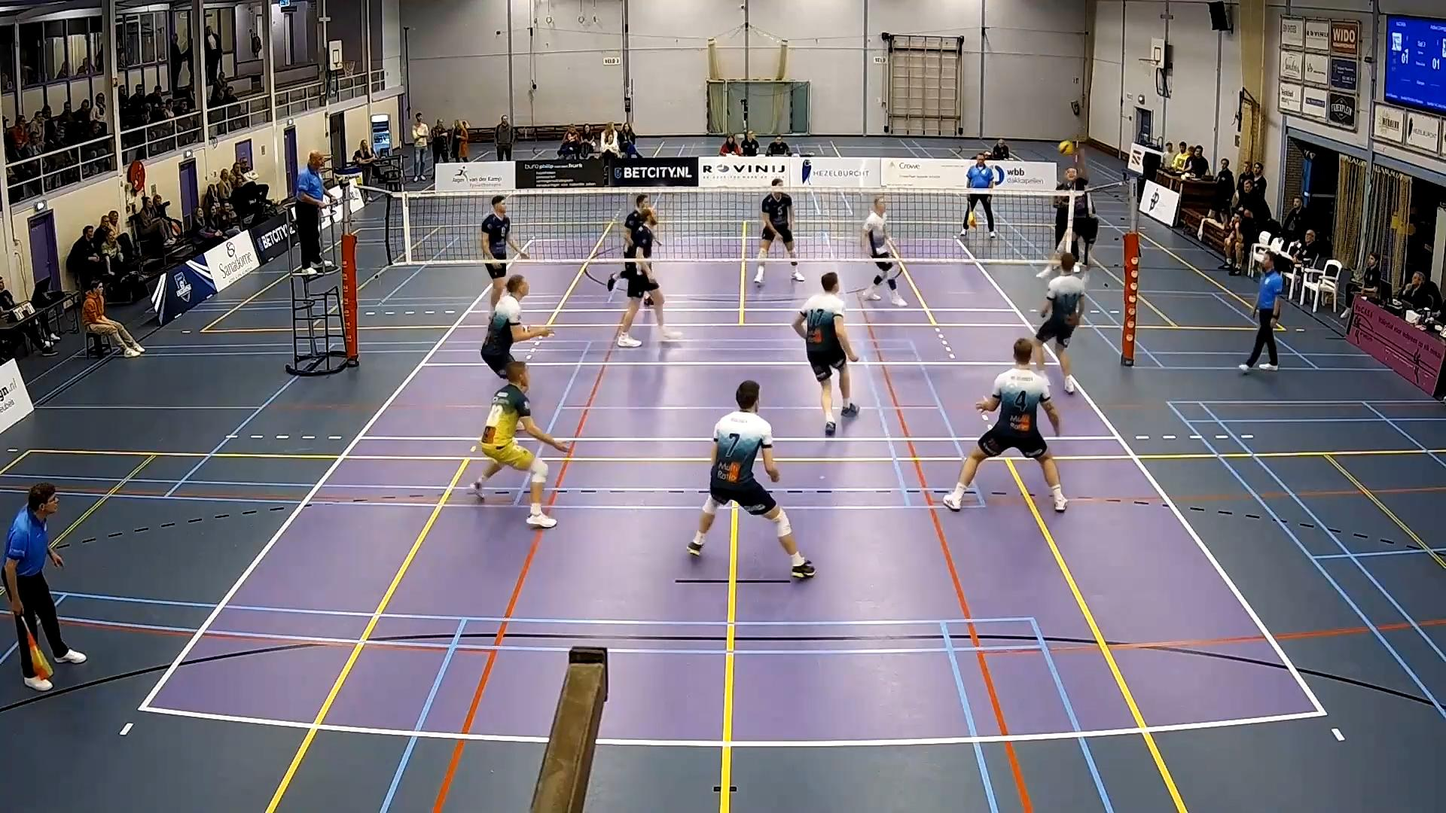Attack: (1041, 141, 1091, 277)
Player: (688, 380, 814, 578), (943, 338, 1066, 511), (472, 361, 569, 528), (792, 271, 858, 435), (616, 208, 681, 347), (480, 274, 553, 377), (1033, 252, 1085, 393), (754, 178, 804, 285), (480, 195, 527, 306), (862, 196, 906, 306), (623, 193, 649, 260)
ball: (1061, 138, 1074, 152)
